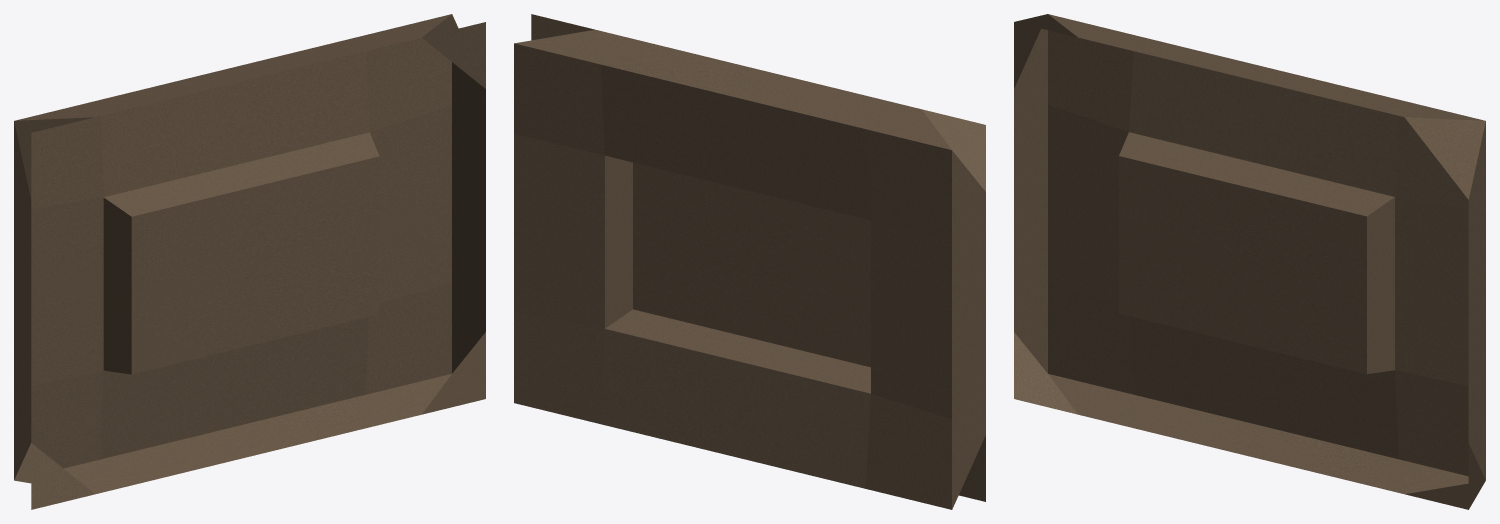
File: desert_land_4.FBX
The picture shows the model from 3 angles, left to right: view 1: azimuth 30°, elevation 25°; view 2: azimuth 150°, elevation 25°; view 3: azimuth 330°, elevation 25°; orthographic projection.
Parts seen in each view (by area): view 1: Plane.002; view 2: Plane.002; view 3: Plane.002.
Part boxes in pixels (bbox=[...]): Plane.002: bbox=[14, 14, 485, 509]; Plane.002: bbox=[514, 14, 985, 509]; Plane.002: bbox=[1014, 14, 1485, 509].
Bounding box in the file's own units: 1254 × 994 × 122.
